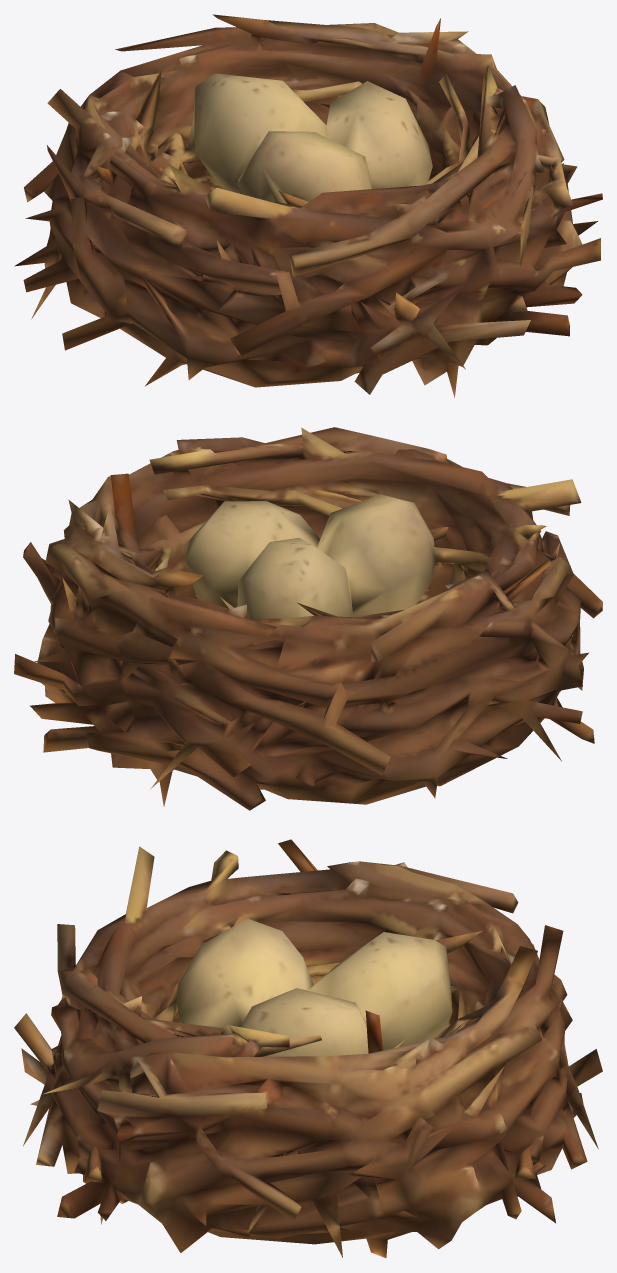
The model's file is yuva.glb.
The picture shows the model from 3 angles, top to bottom: view 1: azimuth 30°, elevation 25°; view 2: azimuth 150°, elevation 25°; view 3: azimuth 270°, elevation 25°; orthographic projection. The views are drawn at different scales.
Visible parts, largest first — view 1: yuva; view 2: yuva; view 3: yuva.
Boxes of the visible parts, bbox=[...] form: yuva: bbox=[14, 14, 602, 397]; yuva: bbox=[14, 427, 602, 810]; yuva: bbox=[14, 839, 602, 1257].
Bounding box in the file's own units: 1 × 0.4663 × 0.9183.
1 material, 1 textured.
